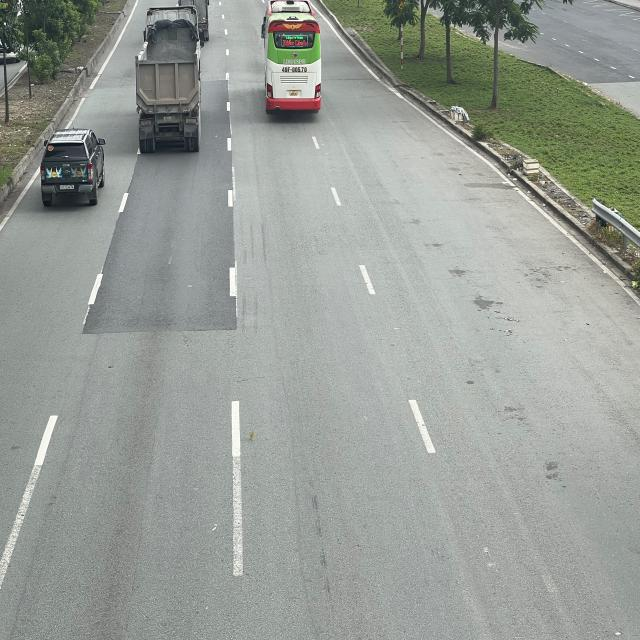car: (39, 130, 106, 203)
coach: (261, 0, 322, 115)
container: (135, 6, 203, 150)
